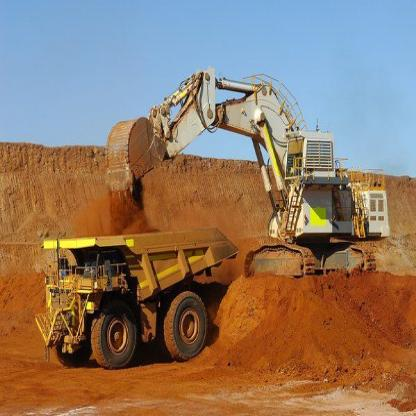dump_truck: (39, 222, 243, 374)
excavator: (95, 48, 396, 301)
